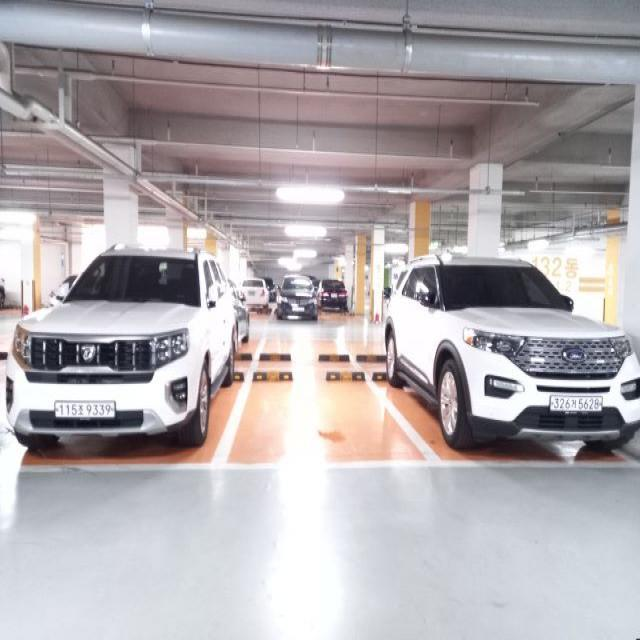empty: (224, 355, 431, 460)
occupied: (382, 253, 640, 457), (11, 238, 224, 456)
